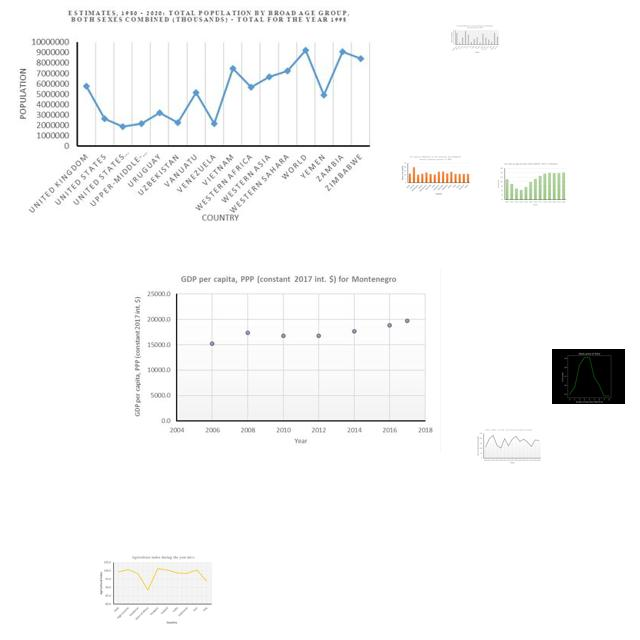Graph: (17, 6, 376, 222), (128, 269, 441, 453), (98, 554, 214, 624), (552, 349, 625, 404), (496, 162, 567, 207), (400, 154, 471, 196), (476, 428, 542, 465), (450, 24, 500, 54)
